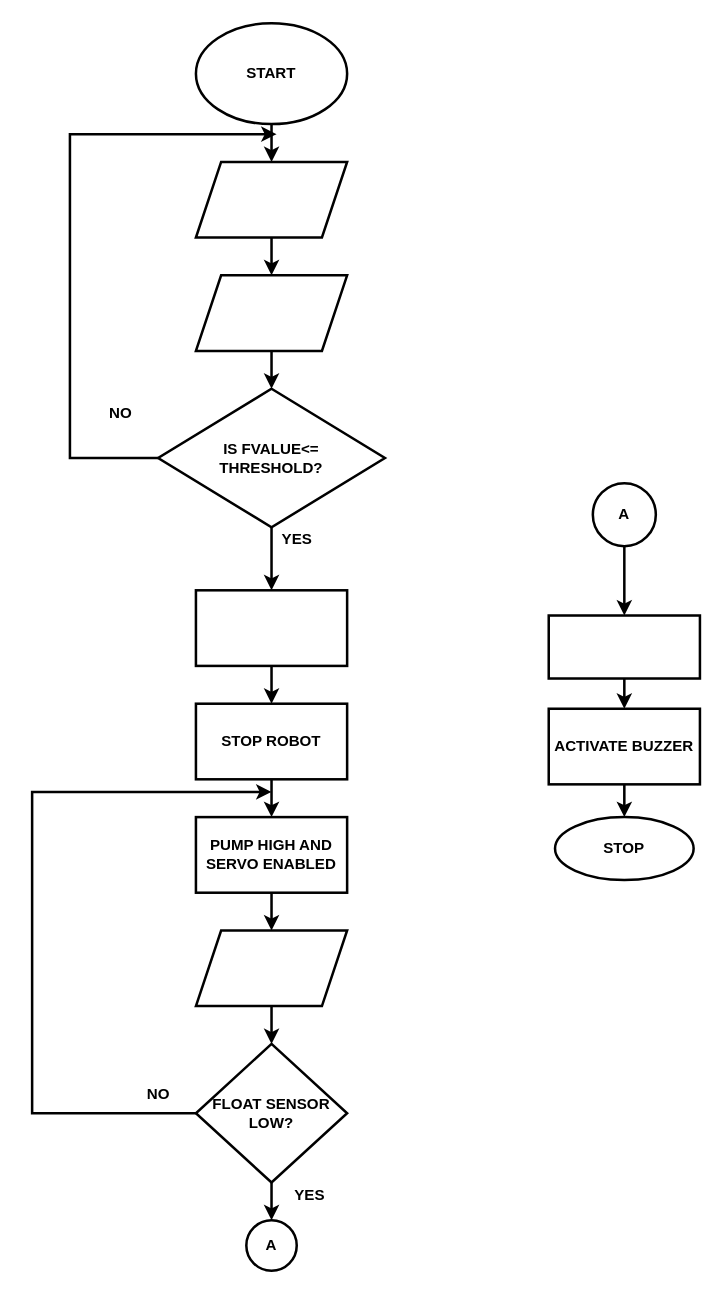
The diagram is 722 pixels wide and 1293 high, and some of its shapes have lost their labels. The shapes that lost their labels are listed below. From the top down, each one's centre as x and y in pixels, then its label:
At point 271,199: "MOVE ROBOT USING REMOTE".
At point 271,312: "READ FLAME SENSOR VALUE".
At point 271,627: "STOP FLAME SENSOR SERVO".
At point 624,646: "PUMP LOW".
At point 271,968: "READ FLOAT SENSOR VALUE".
